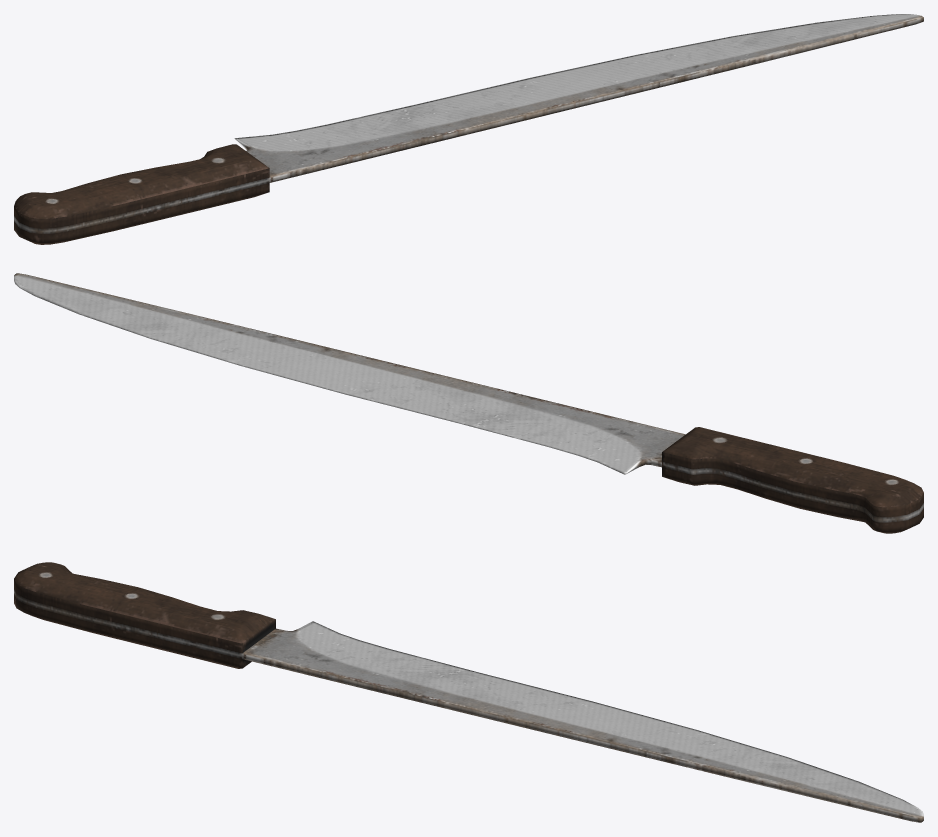
Rendered from SM_Kitchenware03_5_LOD0.glb.
3 views of the same model, one above another, from view 1: azimuth 30°, elevation 25°; view 2: azimuth 150°, elevation 25°; view 3: azimuth 330°, elevation 25° (orthographic). The views are drawn at different scales.
Visible parts, largest first — view 1: SM_Kitchenware03_5_LOD0; view 2: SM_Kitchenware03_5_LOD0; view 3: SM_Kitchenware03_5_LOD0.
Part boxes in pixels (bbox=[...]): SM_Kitchenware03_5_LOD0: bbox=[14, 14, 923, 244]; SM_Kitchenware03_5_LOD0: bbox=[14, 273, 923, 533]; SM_Kitchenware03_5_LOD0: bbox=[14, 562, 923, 822].
Bounding box in the file's own units: 0.5737 × 0.0231 × 0.0579.
Materials: 1 (1 with a texture image).
